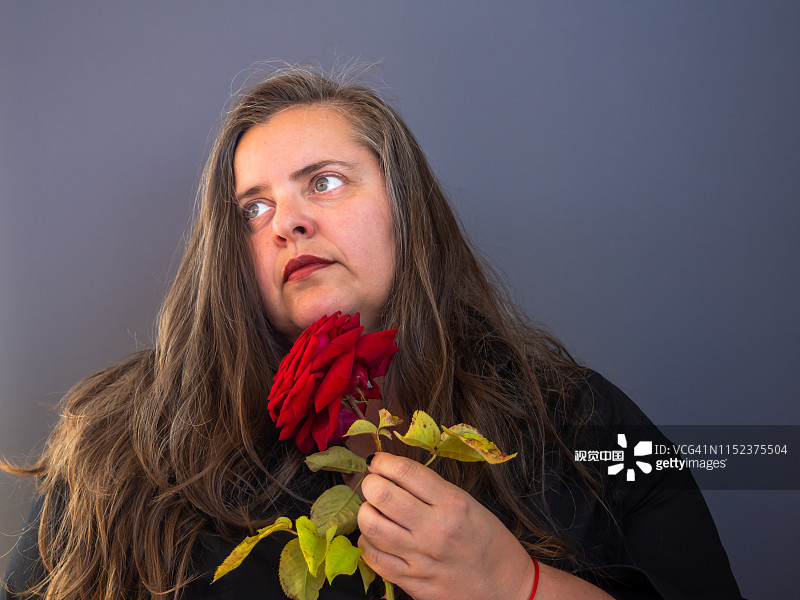no-phone: (349, 439, 558, 600)
